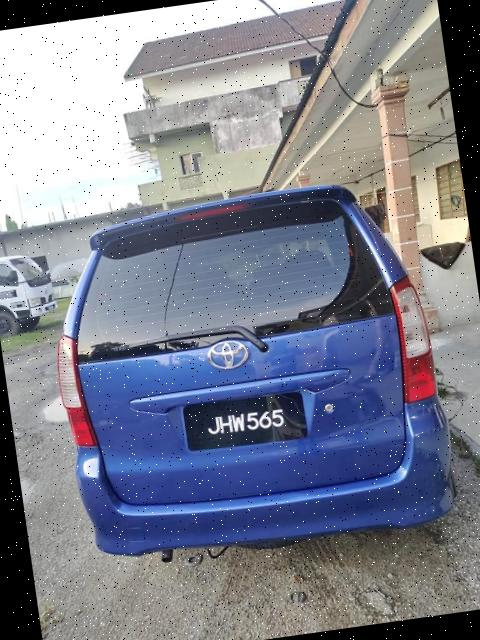License_Plate: (192, 398, 298, 448)
